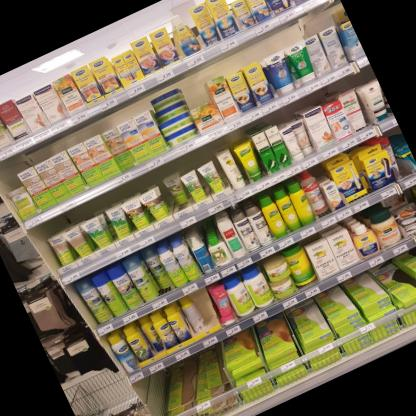empty_space: (148, 156, 196, 217)
